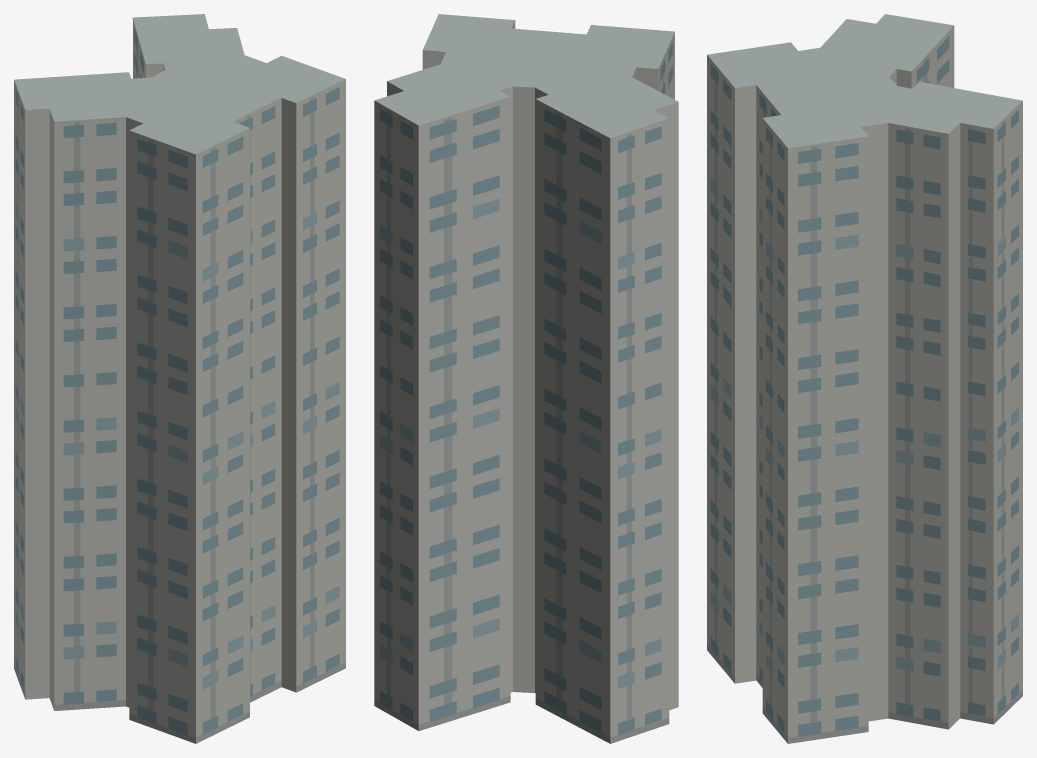
File: residential-214e19dc-ec22-4fc5-9295-2451fd2ed646.glb
3 views of the same model, side by side, from view 1: azimuth 30°, elevation 25°; view 2: azimuth 150°, elevation 25°; view 3: azimuth 270°, elevation 25° (orthographic). The views are drawn at different scales.
Visible parts, largest first — view 1: residential-214e19dc-ec22-4fc5-9295-2451fd2ed646.tmp; view 2: residential-214e19dc-ec22-4fc5-9295-2451fd2ed646.tmp; view 3: residential-214e19dc-ec22-4fc5-9295-2451fd2ed646.tmp.
Part boxes in pixels (left/top/right/bottom): residential-214e19dc-ec22-4fc5-9295-2451fd2ed646.tmp: left=14, top=14, right=345, bottom=743; residential-214e19dc-ec22-4fc5-9295-2451fd2ed646.tmp: left=374, top=14, right=678, bottom=743; residential-214e19dc-ec22-4fc5-9295-2451fd2ed646.tmp: left=707, top=14, right=1022, bottom=743.
Size of the model in its own units: 35.33 by 73 by 35.08.
